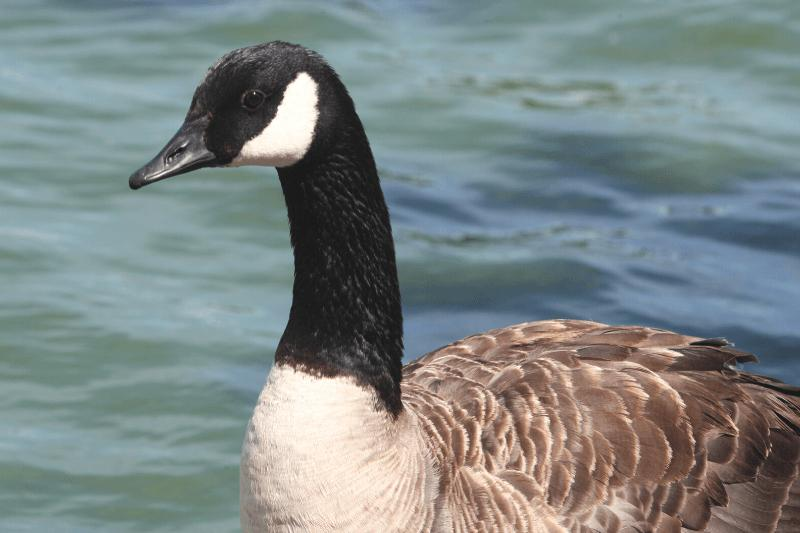Canadian-Goose: (128, 42, 799, 533)
